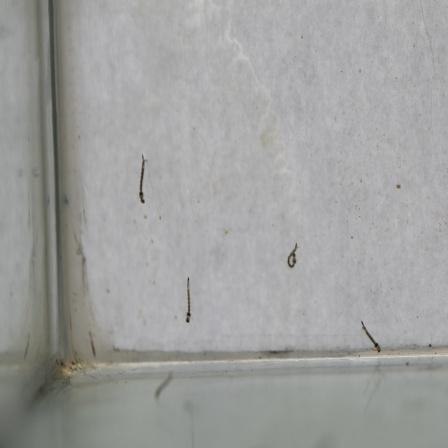Jentik-Nyamuk: (357, 317, 384, 357), (132, 151, 149, 208), (181, 272, 196, 327), (282, 239, 300, 271)
